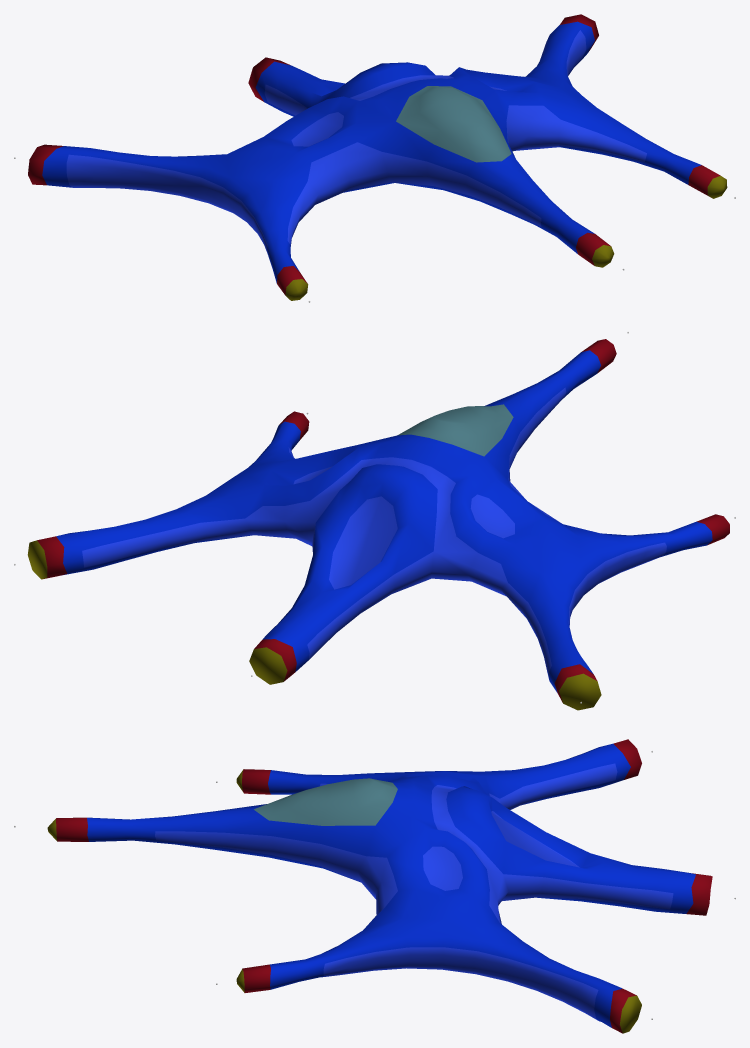
File: ship1.dae
The picture shows the model from 3 angles, top to bottom: view 1: azimuth 30°, elevation 25°; view 2: azimuth 150°, elevation 25°; view 3: azimuth 270°, elevation 25°; orthographic projection. The views are drawn at different scales.
Parts seen in each view (by area): view 1: Ship; view 2: Ship; view 3: Ship.
Boxes of the visible parts, x1=… form: Ship: x1=28, y1=14, x2=727, y2=300; Ship: x1=27, y1=339, x2=729, y2=710; Ship: x1=47, y1=739, x2=712, y2=1033.
Size of the model in its own units: 5.89 by 6.63 by 1.36.
